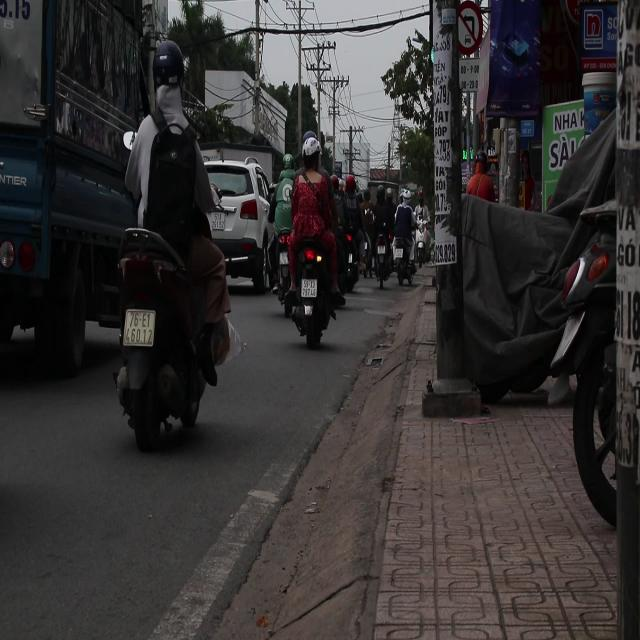car: (202, 158, 276, 294)
motorbike: (113, 222, 211, 447), (292, 223, 328, 355), (393, 234, 418, 290), (374, 232, 395, 289)
truck: (0, 3, 151, 386)
